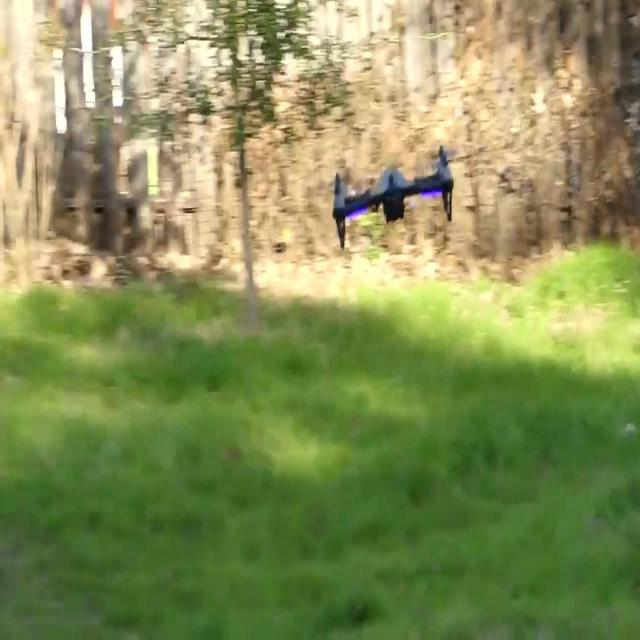UAV: (330, 144, 472, 250)
